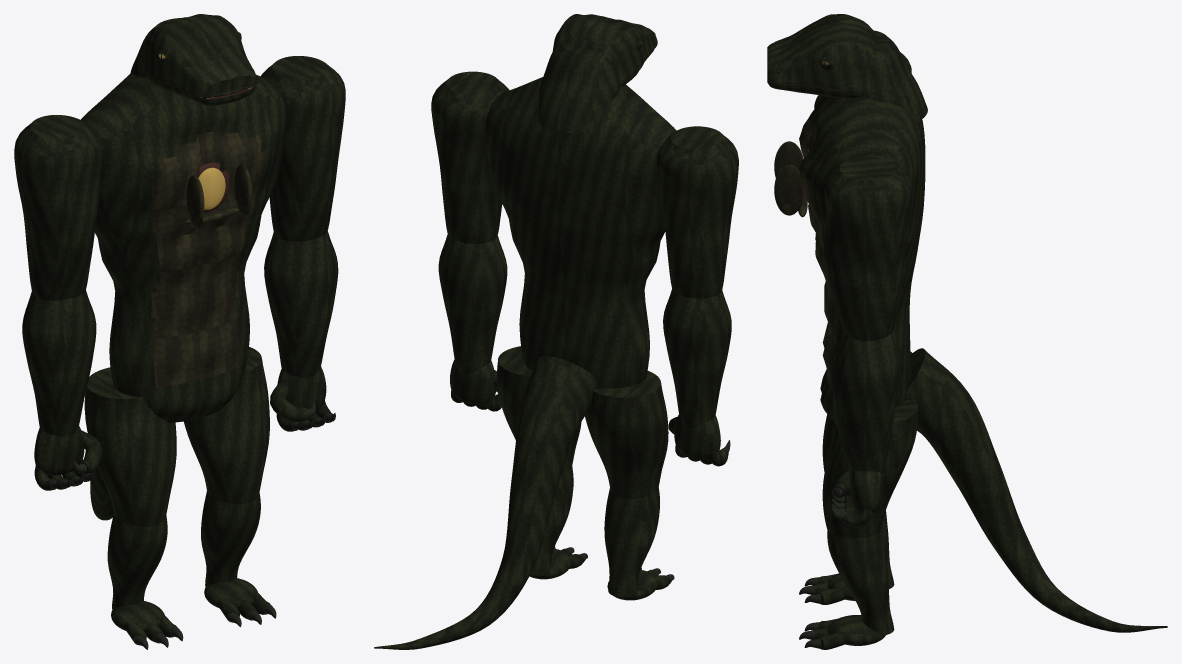
File: lizard_reference.glb
3 renders of one model, left to right at view 1: azimuth 30°, elevation 25°; view 2: azimuth 150°, elevation 25°; view 3: azimuth 270°, elevation 25°, orthographic. The views are drawn at different scales.
Visible parts, largest first — view 1: Colossus_Torso, Colossus_UpperArm_L, Colossus_UpperArm_R, Lizard_Thigh_L, Colossus_Forearm_L, Colossus_Forearm_R, Lizard_Thigh_R, Colossus_Head, Lizard_Shin_R, Lizard_Shin_L, Colossus_Hand_L, Colossus_Hand_R (+5 smaller); view 2: Colossus_Torso, Colossus_Tail, Colossus_UpperArm_L, Colossus_Head, Colossus_UpperArm_R, Lizard_Thigh_L, Colossus_Forearm_R, Colossus_Forearm_L, Lizard_Shin_L, Lizard_Shin_R, Lizard_Thigh_R, Colossus_Hand_L (+1 smaller); view 3: Colossus_Torso, Colossus_Tail, Colossus_UpperArm_R, Colossus_Head, Colossus_Forearm_R, Lizard_Shin_R, Lizard_Thigh_R, Colossus_Hand_R, Lizard_Shin_L, Colossus_ShutterR, Colossus_Jaw, Colossus_ShutterL.
Part boxes in pixels (bbox=[...]): Colossus_Torso: bbox=[81, 73, 286, 422]; Colossus_UpperArm_L: bbox=[14, 115, 102, 300]; Colossus_UpperArm_R: bbox=[261, 56, 345, 241]; Lizard_Thigh_L: bbox=[84, 367, 176, 526]; Colossus_Forearm_L: bbox=[22, 290, 96, 436]; Colossus_Forearm_R: bbox=[264, 231, 338, 377]; Lizard_Thigh_R: bbox=[184, 347, 269, 504]; Colossus_Head: bbox=[130, 14, 258, 98]; Lizard_Shin_R: bbox=[201, 491, 276, 626]; Lizard_Shin_L: bbox=[107, 514, 183, 649]; Colossus_Hand_L: bbox=[34, 426, 101, 490]; Colossus_Hand_R: bbox=[270, 367, 335, 431]; Colossus_Torso: bbox=[485, 77, 676, 388]; Colossus_Tail: bbox=[374, 356, 598, 649]; Colossus_UpperArm_L: bbox=[656, 126, 738, 298]; Colossus_Head: bbox=[538, 14, 657, 132]; Colossus_UpperArm_R: bbox=[431, 71, 509, 243]; Lizard_Thigh_L: bbox=[585, 370, 668, 498]; Colossus_Forearm_R: bbox=[438, 234, 507, 373]; Colossus_Forearm_L: bbox=[663, 289, 731, 427]; Lizard_Shin_L: bbox=[604, 487, 674, 600]; Lizard_Shin_R: bbox=[529, 466, 587, 579]; Lizard_Thigh_R: bbox=[496, 346, 581, 473]; Colossus_Hand_L: bbox=[668, 414, 730, 466]; Colossus_Torso: bbox=[798, 95, 925, 423]; Colossus_Tail: bbox=[905, 348, 1167, 632]; Colossus_UpperArm_R: bbox=[823, 157, 911, 340]; Colossus_Head: bbox=[767, 14, 927, 122]; Colossus_Forearm_R: bbox=[832, 329, 901, 473]; Lizard_Shin_R: bbox=[799, 530, 894, 649]; Lizard_Thigh_R: bbox=[822, 399, 917, 537]; Colossus_Hand_R: bbox=[831, 468, 883, 526]; Lizard_Shin_L: bbox=[799, 510, 894, 604]; Colossus_ShutterR: bbox=[774, 164, 803, 215]; Colossus_Jaw: bbox=[767, 79, 862, 98]; Colossus_ShutterL: bbox=[774, 141, 803, 177].
Size of the model in its own units: 14.57 by 26.18 by 15.98.
9 materials, 2 textured.
